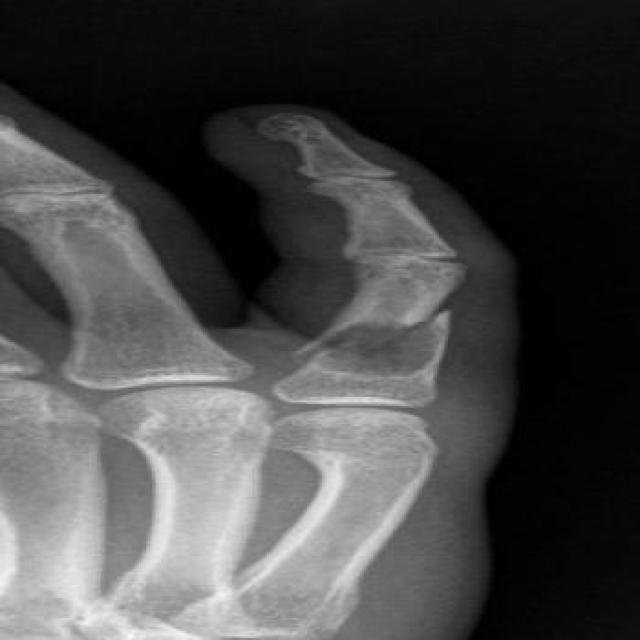Fracture: (291, 302, 477, 376)
